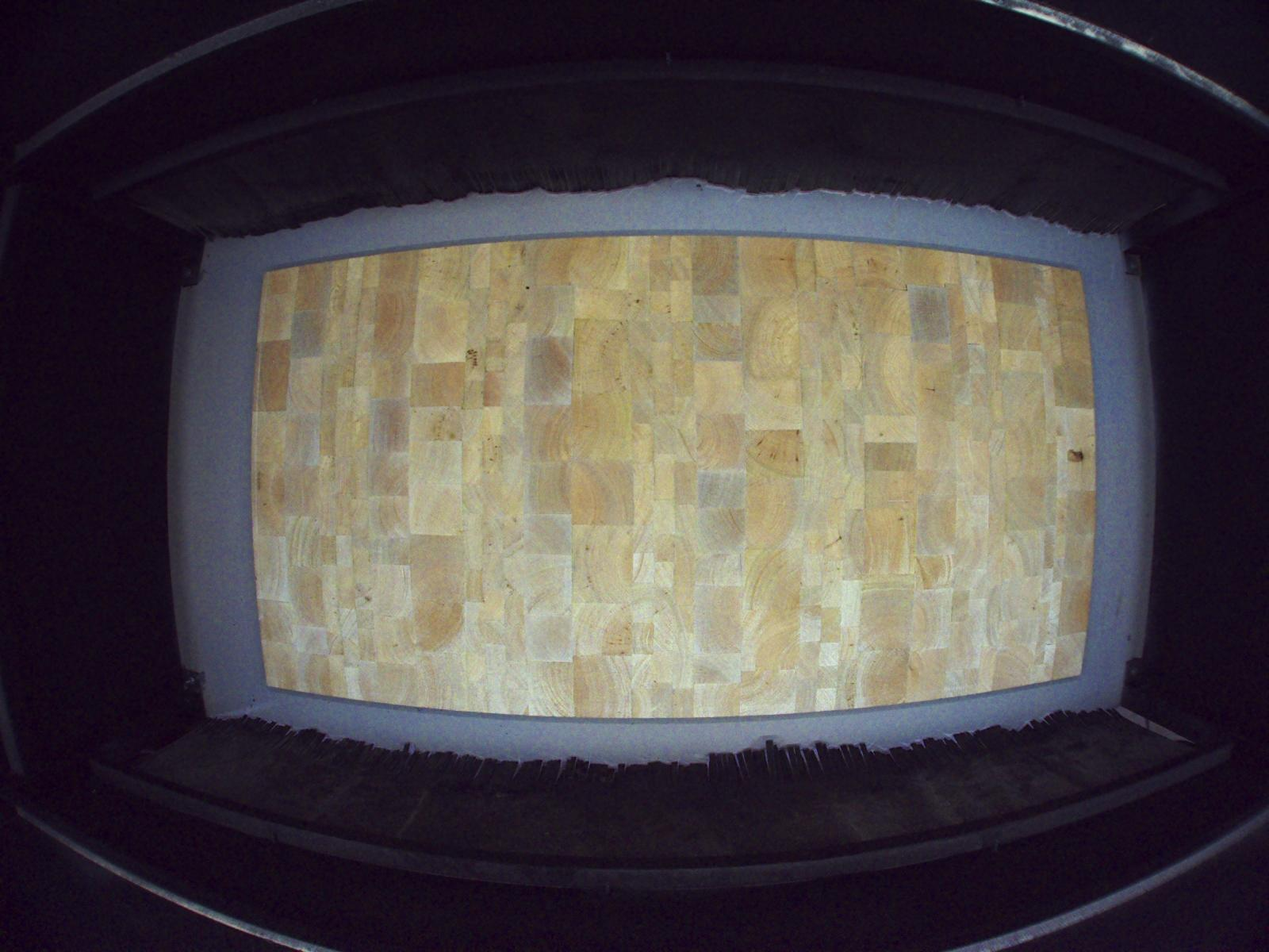nudillo: (1066, 446, 1085, 467)
